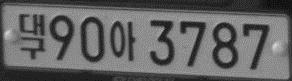0: (80, 16, 105, 63)
3: (148, 19, 174, 66)
7: (242, 22, 270, 69), (179, 20, 206, 66)
8: (211, 21, 239, 69)
9: (49, 14, 75, 60)
대구_V: (18, 13, 46, 59)
아: (109, 19, 136, 61)
